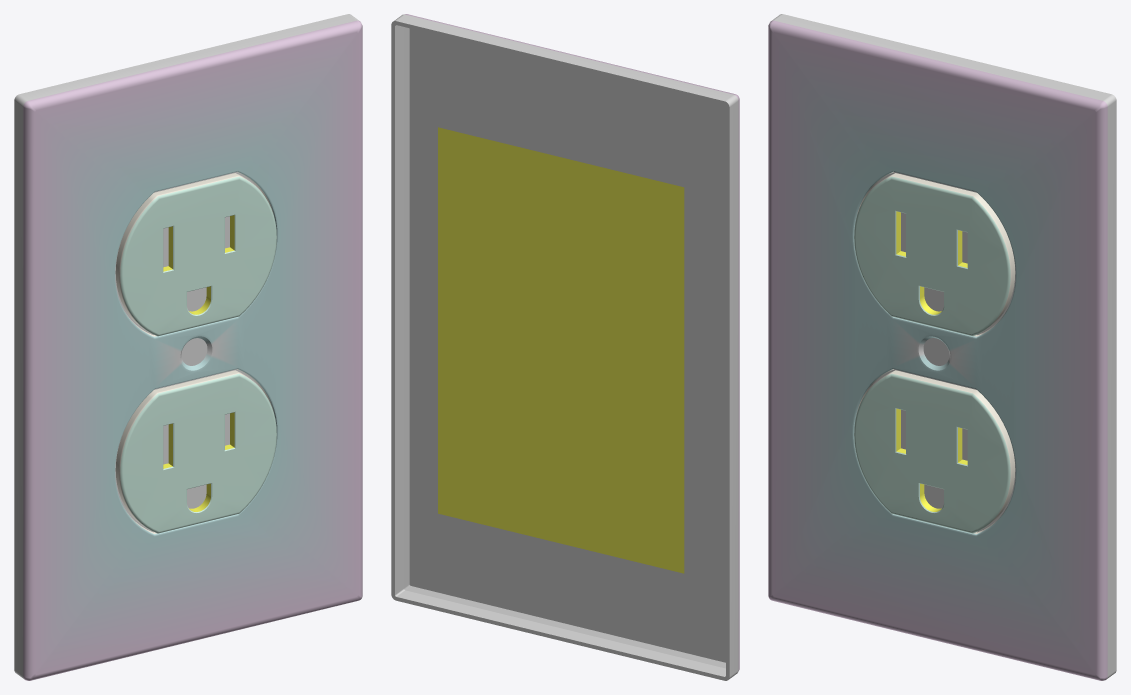
Rendered from Kit_OutletDuplex_Steel.fbx.
The picture shows the model from 3 angles, left to right: view 1: azimuth 30°, elevation 25°; view 2: azimuth 150°, elevation 25°; view 3: azimuth 330°, elevation 25°; orthographic projection.
Parts seen in each view (by area): view 1: Kit_OutletDuplex_Steel_LOD0; view 2: Kit_OutletDuplex_Steel_LOD0; view 3: Kit_OutletDuplex_Steel_LOD0.
Part boxes in pixels (left/top/right/bottom): Kit_OutletDuplex_Steel_LOD0: left=14, top=14, right=362, bottom=680; Kit_OutletDuplex_Steel_LOD0: left=391, top=14, right=739, bottom=680; Kit_OutletDuplex_Steel_LOD0: left=768, top=14, right=1116, bottom=680.
Size of what is drawn, in the model's own units: 0.0698 by 0.1143 by 0.0057.
